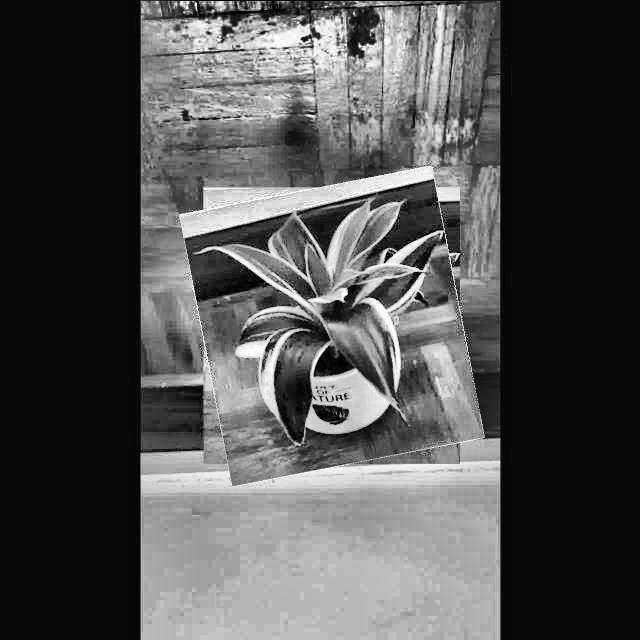plants: (191, 176, 472, 475)
